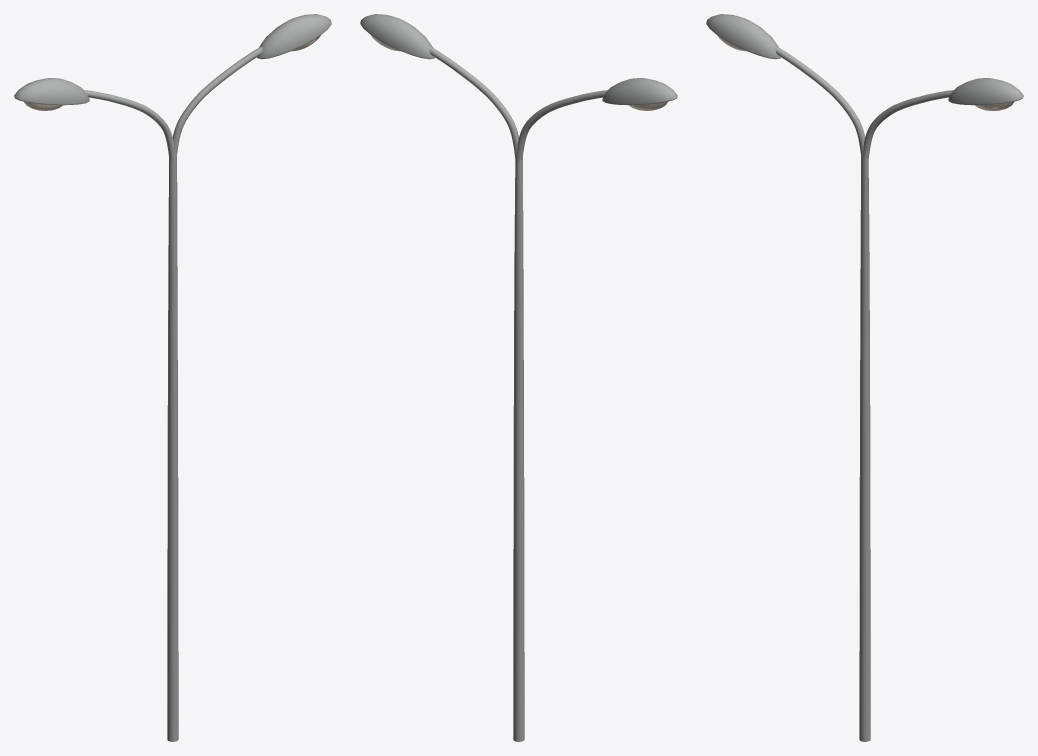
The picture shows the model from 3 angles, left to right: view 1: azimuth 30°, elevation 25°; view 2: azimuth 150°, elevation 25°; view 3: azimuth 330°, elevation 25°; orthographic projection.
Visible parts, largest first — view 1: LO-gan_01; view 2: LO-gan_01; view 3: LO-gan_01.
Part boxes in pixels (x1,y1,x2,y2): LO-gan_01: [14, 14, 331, 741]; LO-gan_01: [360, 14, 677, 741]; LO-gan_01: [706, 14, 1023, 741].
Size of the model in its own units: 3.06 by 6.38 by 0.2759.
3 materials, 2 textured.
